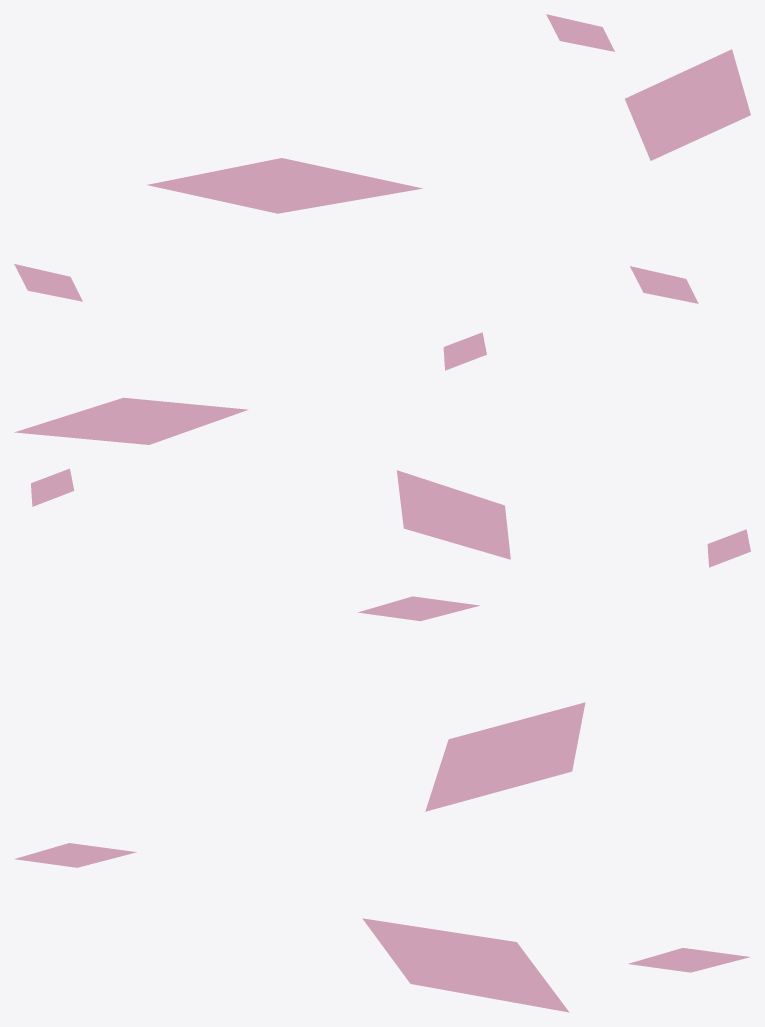
File: SM_leafs.fbx
3 renders of one model, top to bottom at view 1: azimuth 30°, elevation 25°; view 2: azimuth 150°, elevation 25°; view 3: azimuth 270°, elevation 25°, orthographic. The views are drawn at different scales.
Parts seen in each view (by area): view 1: Plane.005; view 2: Plane.005; view 3: Plane.005.
Part boxes in pixels (x1,y1,x2,y2): Plane.005: (14,14,750,303); Plane.005: (14,332,750,567); Plane.005: (14,596,749,1012).
Bounding box in the file's own units: 110 × 0 × 81.94.
